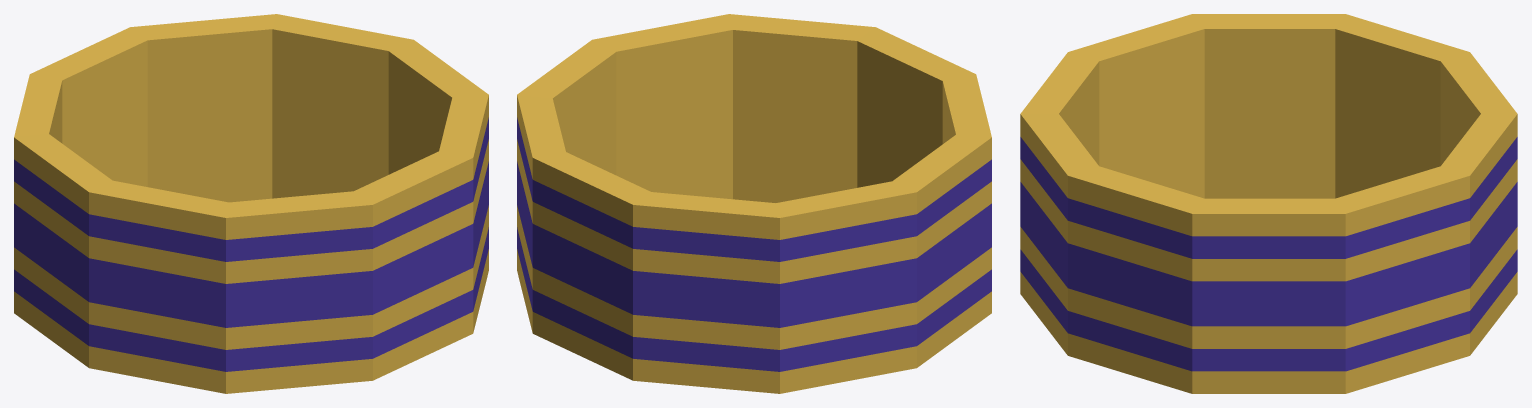
Rendered from Brazalete1.fbx.
3 renders of one model, left to right at view 1: azimuth 30°, elevation 25°; view 2: azimuth 150°, elevation 25°; view 3: azimuth 270°, elevation 25°, orthographic. The views are drawn at different scales.
Visible parts, largest first — view 1: Cylinder, Cylinder.001; view 2: Cylinder, Cylinder.001; view 3: Cylinder, Cylinder.001.
Boxes of the visible parts, x1,y1,x2,y2 form: Cylinder: (14,14,488,393); Cylinder.001: (14,117,488,371); Cylinder: (517,14,991,393); Cylinder.001: (517,117,991,371); Cylinder: (1020,14,1517,393); Cylinder.001: (1020,137,1517,371).
Bounding box in the file's own units: 19.02 × 8 × 20.
